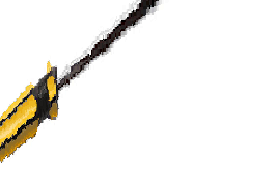screwdriver: (2, 1, 170, 158)
